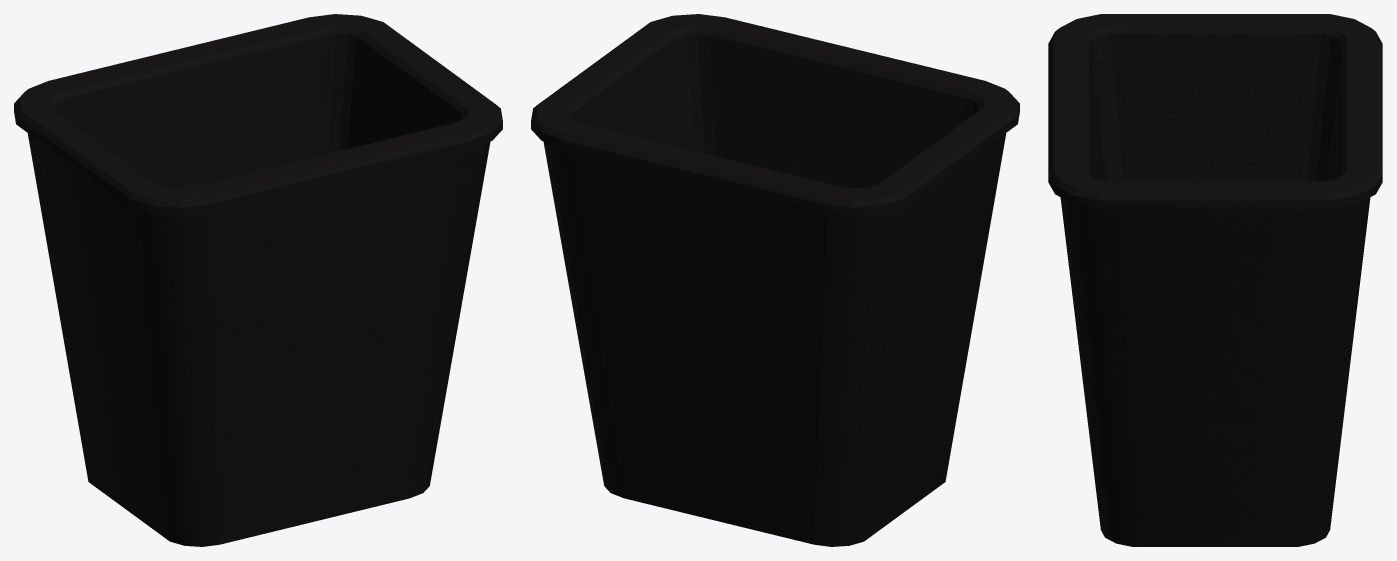
File: trashcan.FBX
3 views of the same model, side by side, from view 1: azimuth 30°, elevation 25°; view 2: azimuth 150°, elevation 25°; view 3: azimuth 270°, elevation 25° (orthographic).
Parts seen in each view (by area): view 1: Rectangle001; view 2: Rectangle001; view 3: Rectangle001.
Boxes of the visible parts, x1,y1,x2,y2 form: Rectangle001: (14, 14, 502, 546); Rectangle001: (531, 14, 1019, 546); Rectangle001: (1048, 14, 1382, 546).
Bounding box in the file's own units: 41.66 × 40 × 32.
